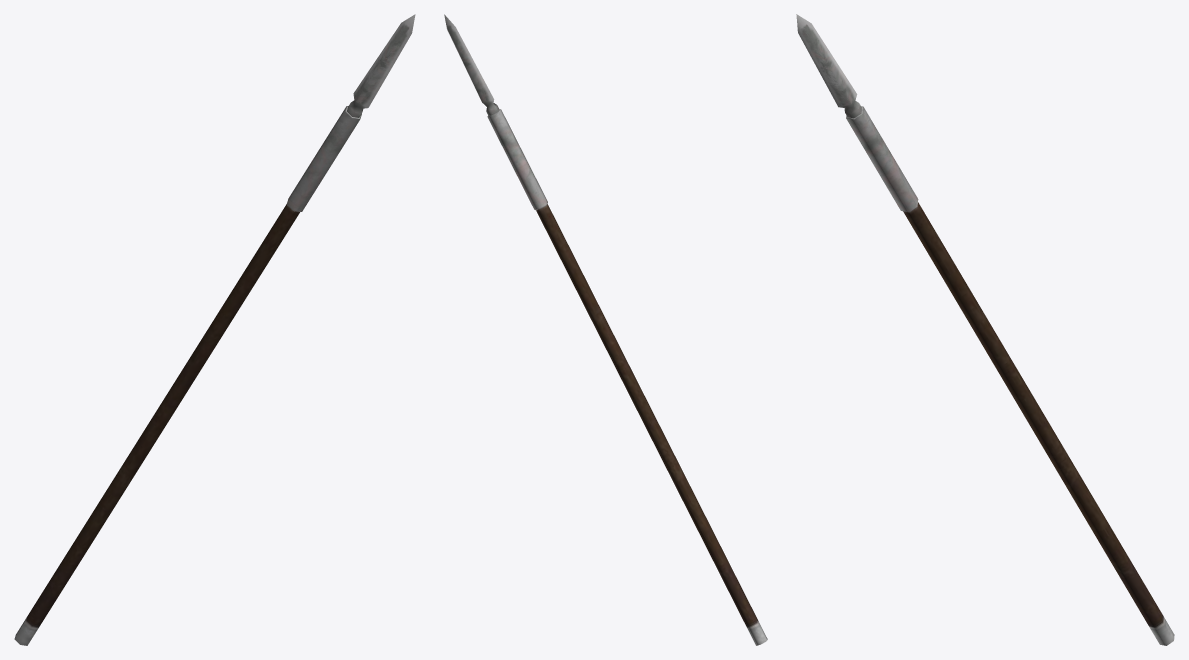
Rendered from weapon-base.glb.
The picture shows the model from 3 angles, left to right: view 1: azimuth 30°, elevation 25°; view 2: azimuth 210°, elevation 25°; view 3: azimuth 270°, elevation 25°; orthographic projection. The views are drawn at different scales.
Size of the model in its own units: 0.6947 by 2.09 by 0.9685.
Materials: 1 (1 with a texture image).
